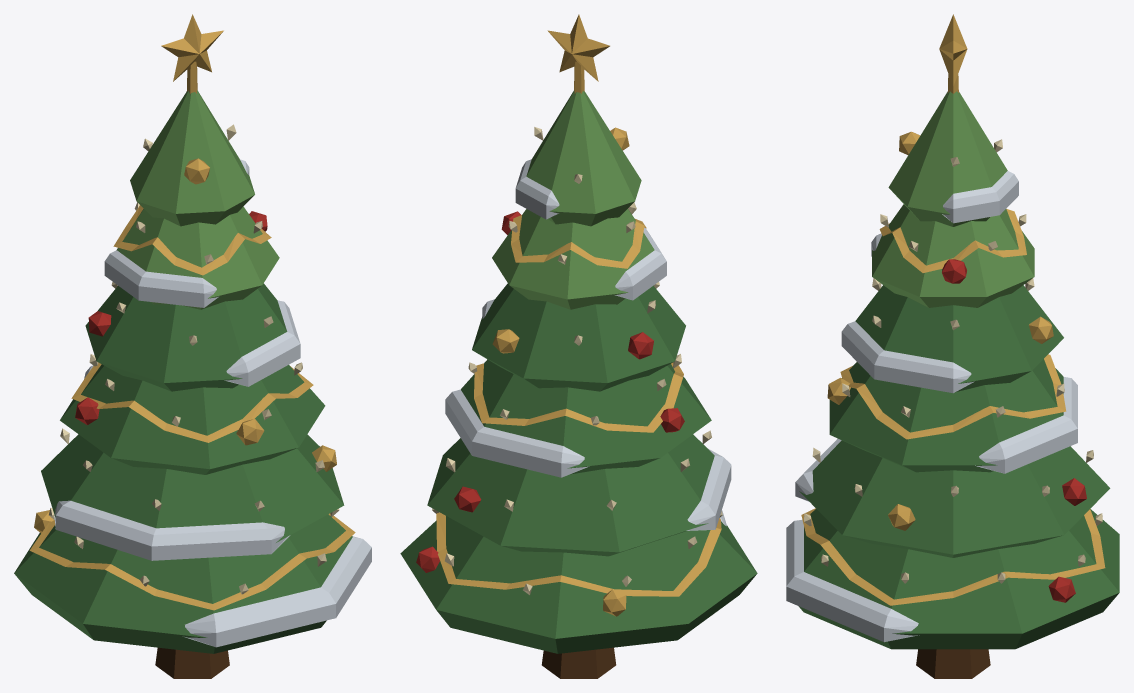
The model's file is front-yard-fir-tree-0a278d.glb.
3 views of the same model, side by side, from view 1: azimuth 30°, elevation 25°; view 2: azimuth 150°, elevation 25°; view 3: azimuth 270°, elevation 25° (orthographic).
Parts seen in each view (by area): view 1: front-yard-fir-tree-0a278d; view 2: front-yard-fir-tree-0a278d; view 3: front-yard-fir-tree-0a278d.
Part boxes in pixels (x1=…): front-yard-fir-tree-0a278d: x1=14, y1=14, x2=371, y2=678; front-yard-fir-tree-0a278d: x1=400, y1=14, x2=757, y2=678; front-yard-fir-tree-0a278d: x1=786, y1=14, x2=1119, y2=678.
Bounding box in the file's own units: 1.3 × 2.79 × 1.3.
